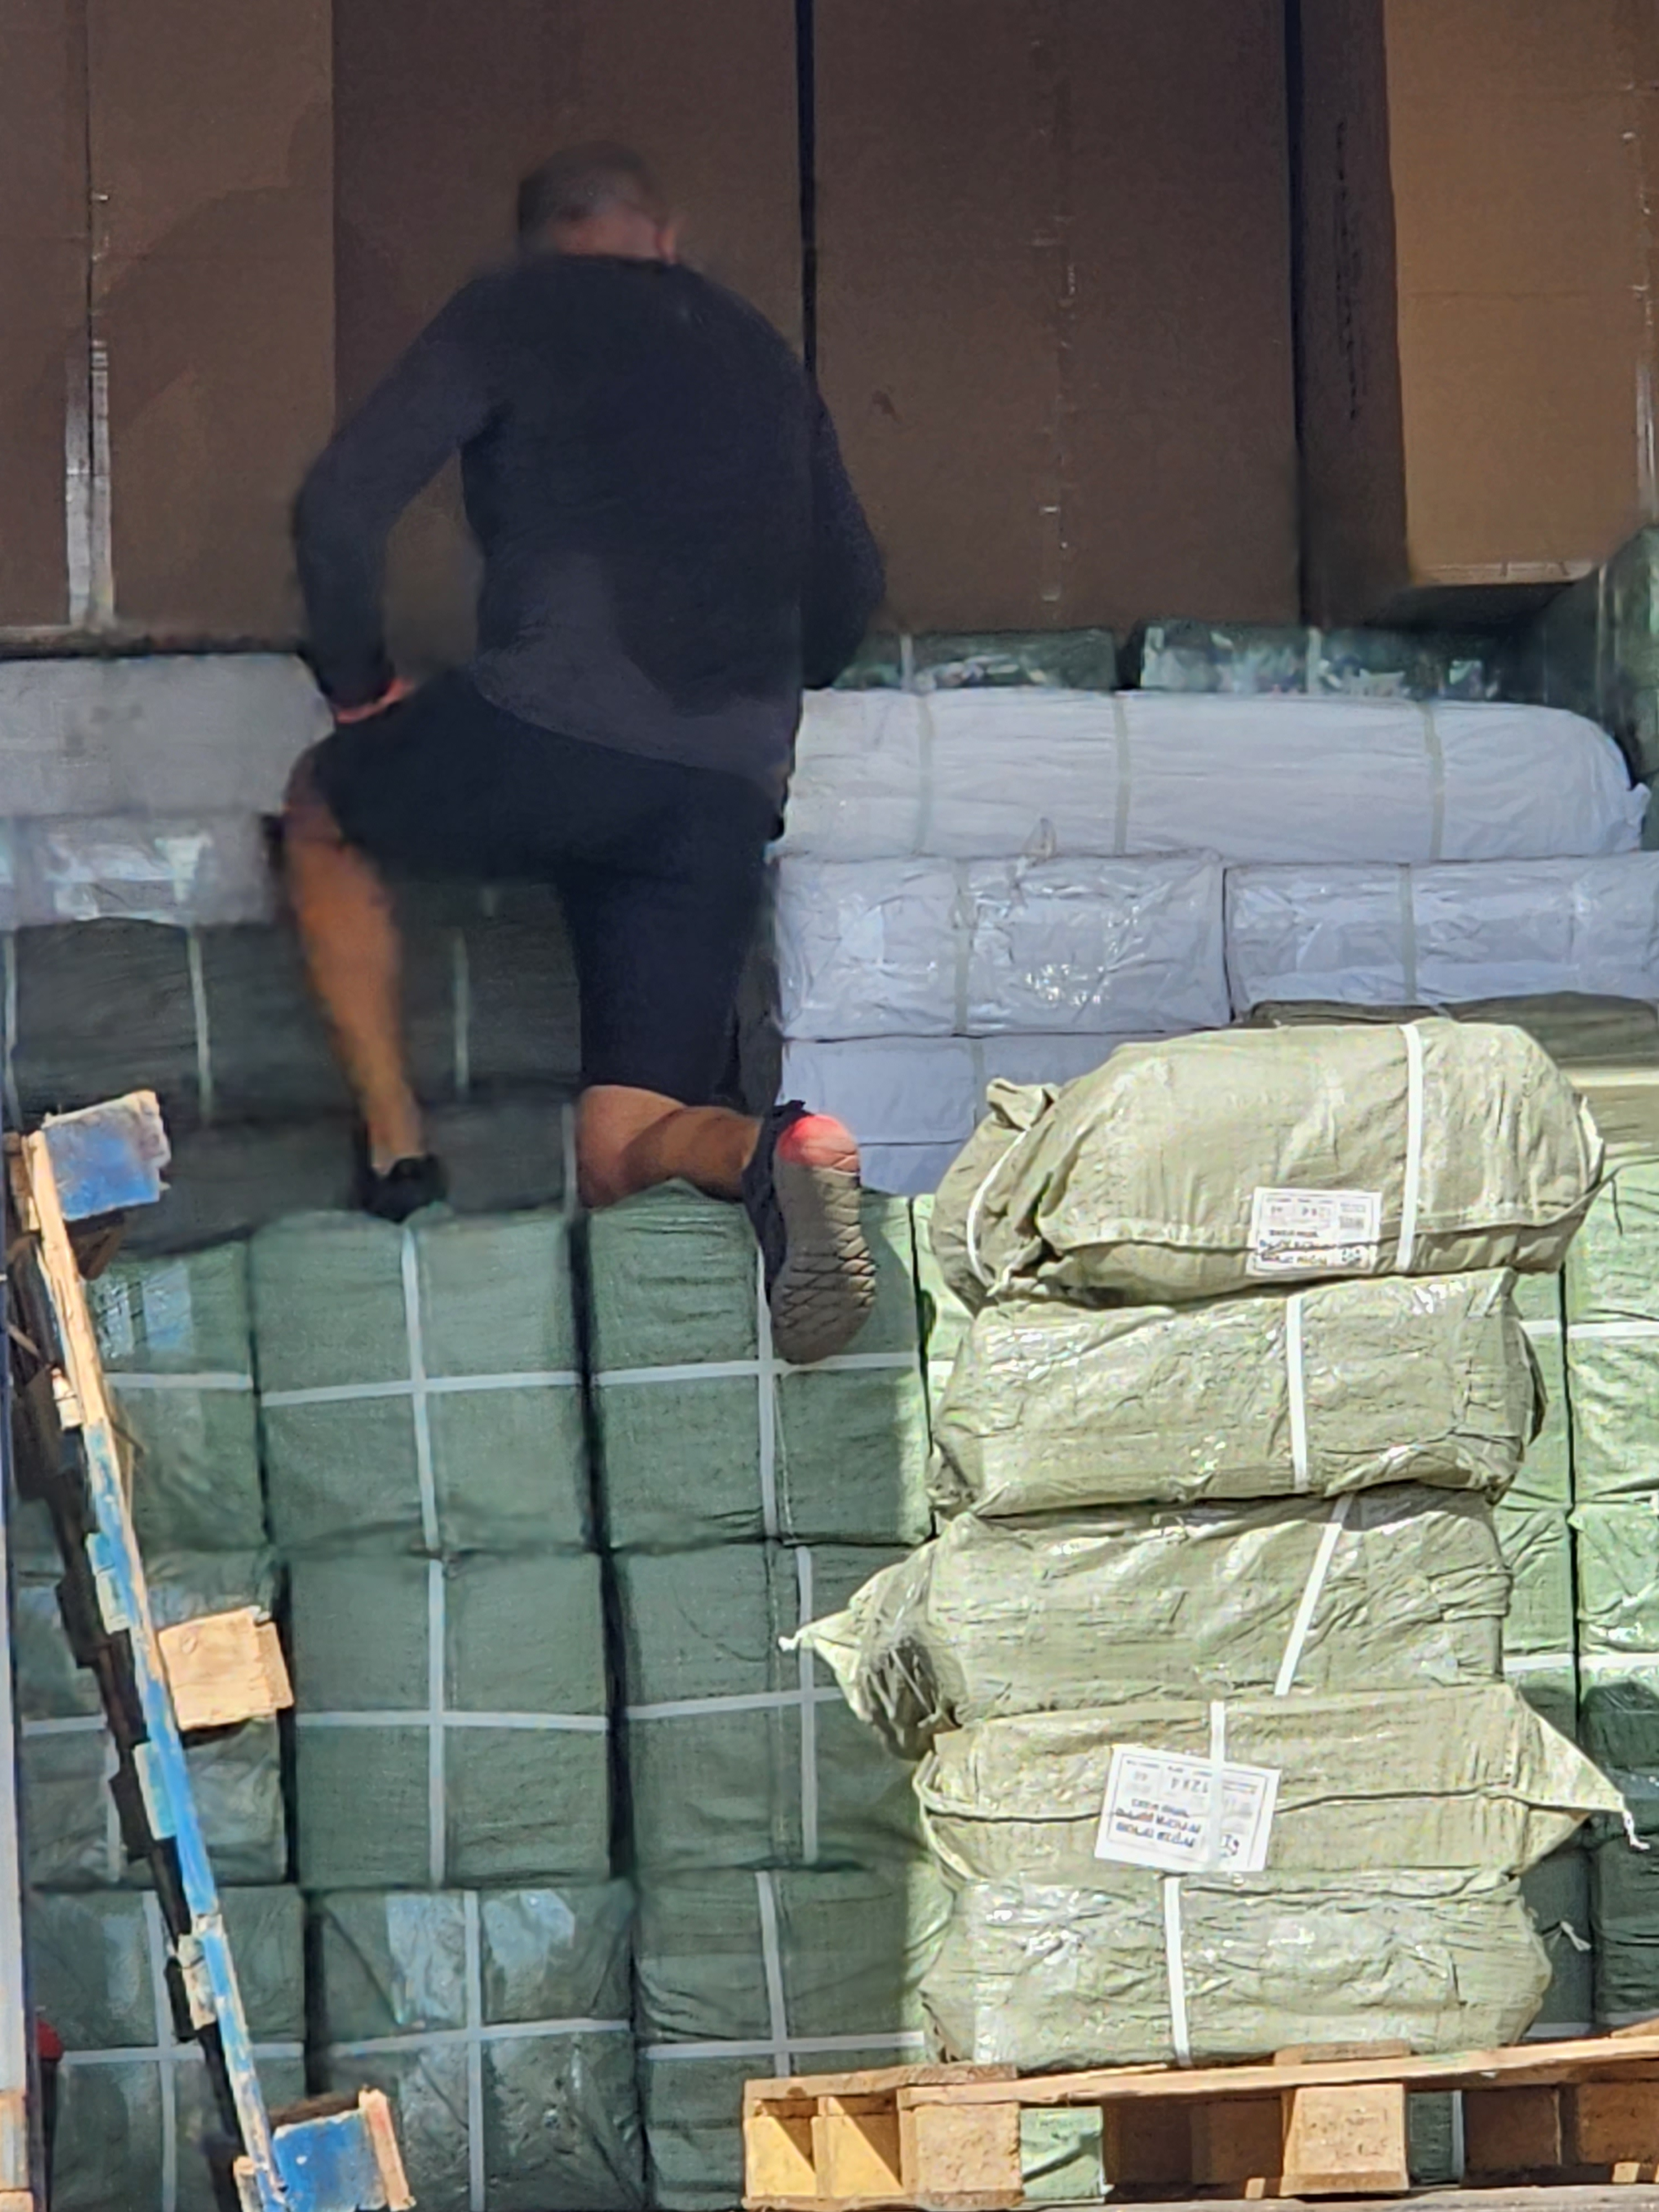box: (910, 1012, 1612, 1305), (877, 1264, 1586, 1503), (227, 1214, 633, 1601), (817, 1480, 1549, 1695), (850, 1851, 1570, 2062), (249, 1578, 692, 1904), (840, 1695, 1601, 1883), (279, 1857, 678, 2172)
